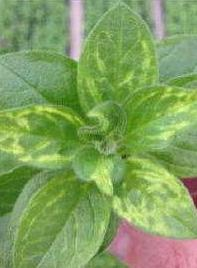Tomato leaf mosaic virus: (73, 3, 156, 139), (13, 174, 114, 268), (111, 85, 197, 158), (0, 103, 88, 168)
